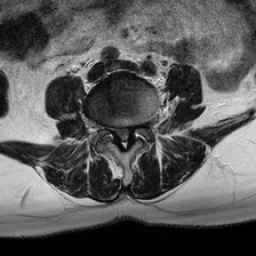CCS_normal: (121, 121, 128, 153)
LFS_severe_stenosis: (136, 116, 144, 136)
LLS_severe_stenosis: (128, 121, 134, 144)
RFS_severe_stenosis: (106, 117, 114, 138)
RLS_stenosis: (114, 121, 121, 142)
